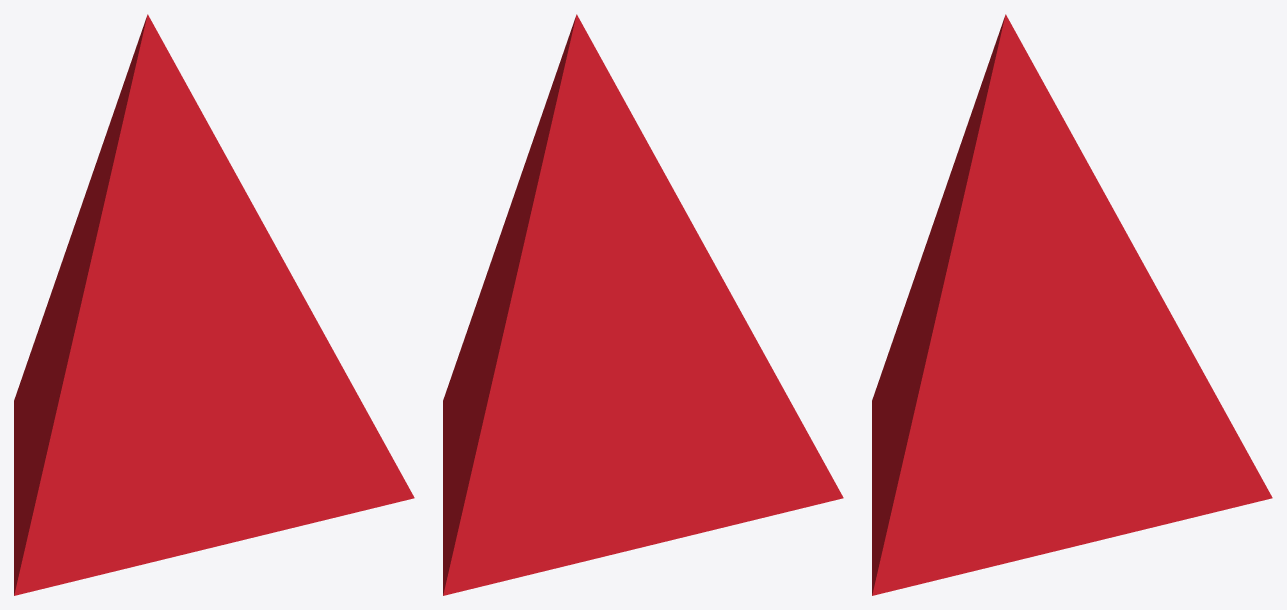
File: arrows.glb
3 views of the same model, side by side, from view 1: azimuth 30°, elevation 25°; view 2: azimuth 150°, elevation 25°; view 3: azimuth 270°, elevation 25° (orthographic).
Visible parts, largest first — view 1: right; view 2: right; view 3: right.
Part boxes in pixels (x1,y1,x2,y2): right: [14, 14, 414, 595]; right: [443, 14, 843, 595]; right: [872, 14, 1272, 595].
Size of the model in its own units: 1.73 by 2 by 1.5.
